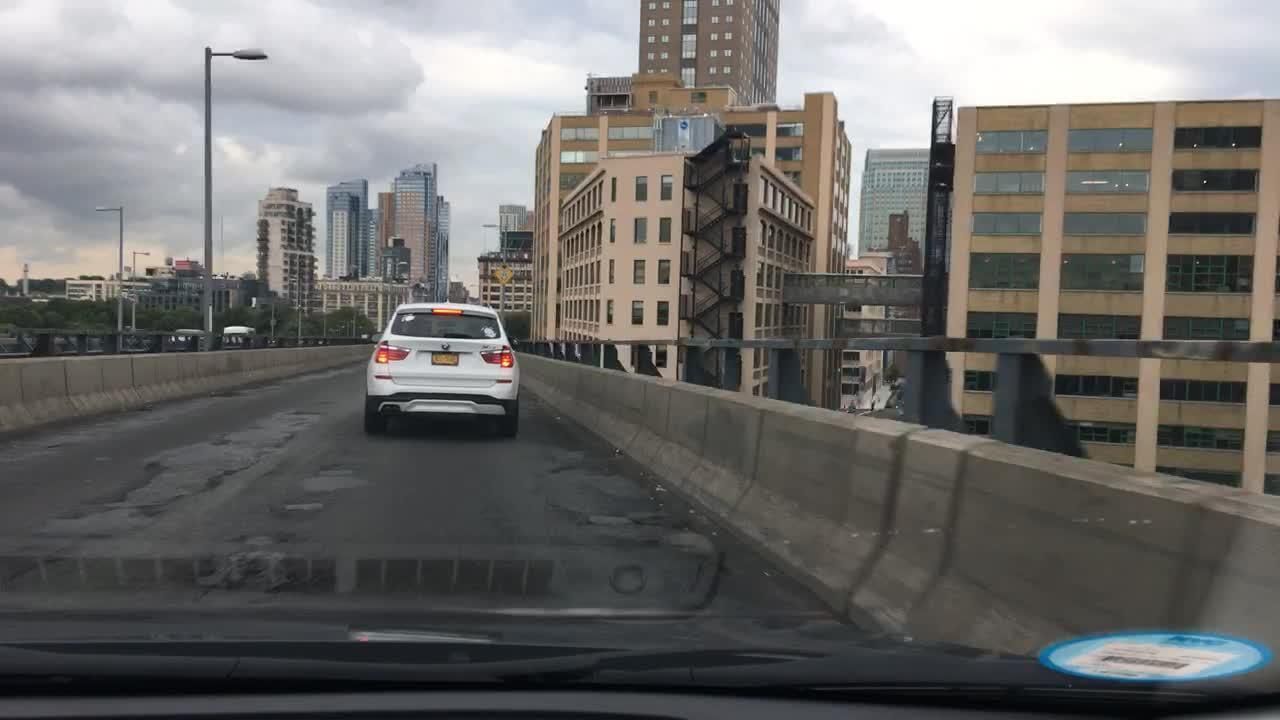bmw: (435, 338, 457, 356)
